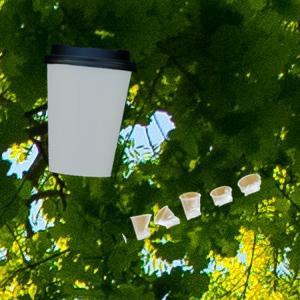cup: (42, 43, 133, 178)
